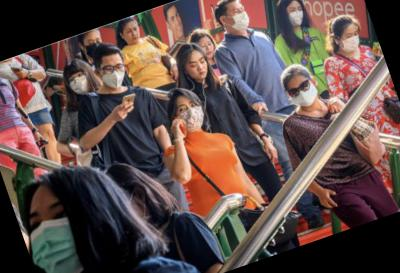with_mask: (17, 198, 90, 273), (173, 97, 210, 137), (286, 76, 323, 112), (97, 58, 132, 95), (225, 3, 254, 35), (337, 28, 366, 56), (66, 70, 93, 98), (82, 34, 109, 60), (285, 2, 310, 29)
without_mask: (185, 54, 214, 84), (121, 23, 145, 47), (199, 38, 219, 61)
